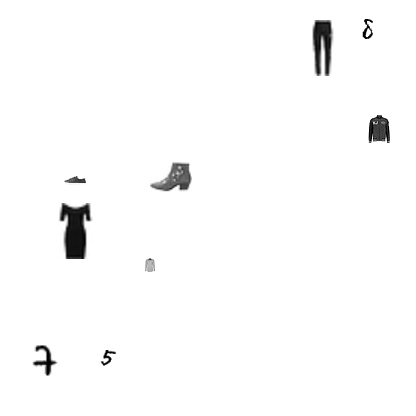5: (96, 346, 118, 368)
7: (24, 338, 66, 380)
8: (353, 15, 381, 43)
Ankle_boot: (150, 155, 192, 197)
Coat: (365, 115, 393, 143)
Dress: (46, 203, 102, 259)
Shirt: (143, 258, 157, 272)
Sneaker: (64, 169, 86, 191)
Trouser: (295, 20, 351, 76)
